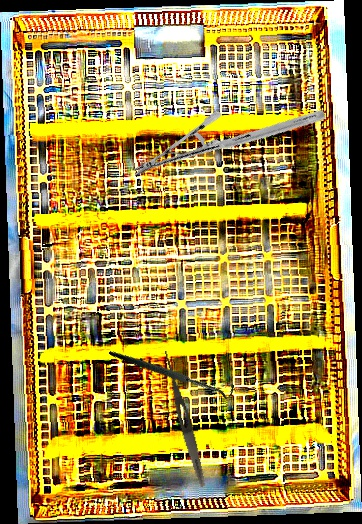Dressing Forceps: (158, 350, 210, 488)
Hook Surgical: (108, 305, 238, 437)
Needle Holder: (129, 42, 329, 244)
